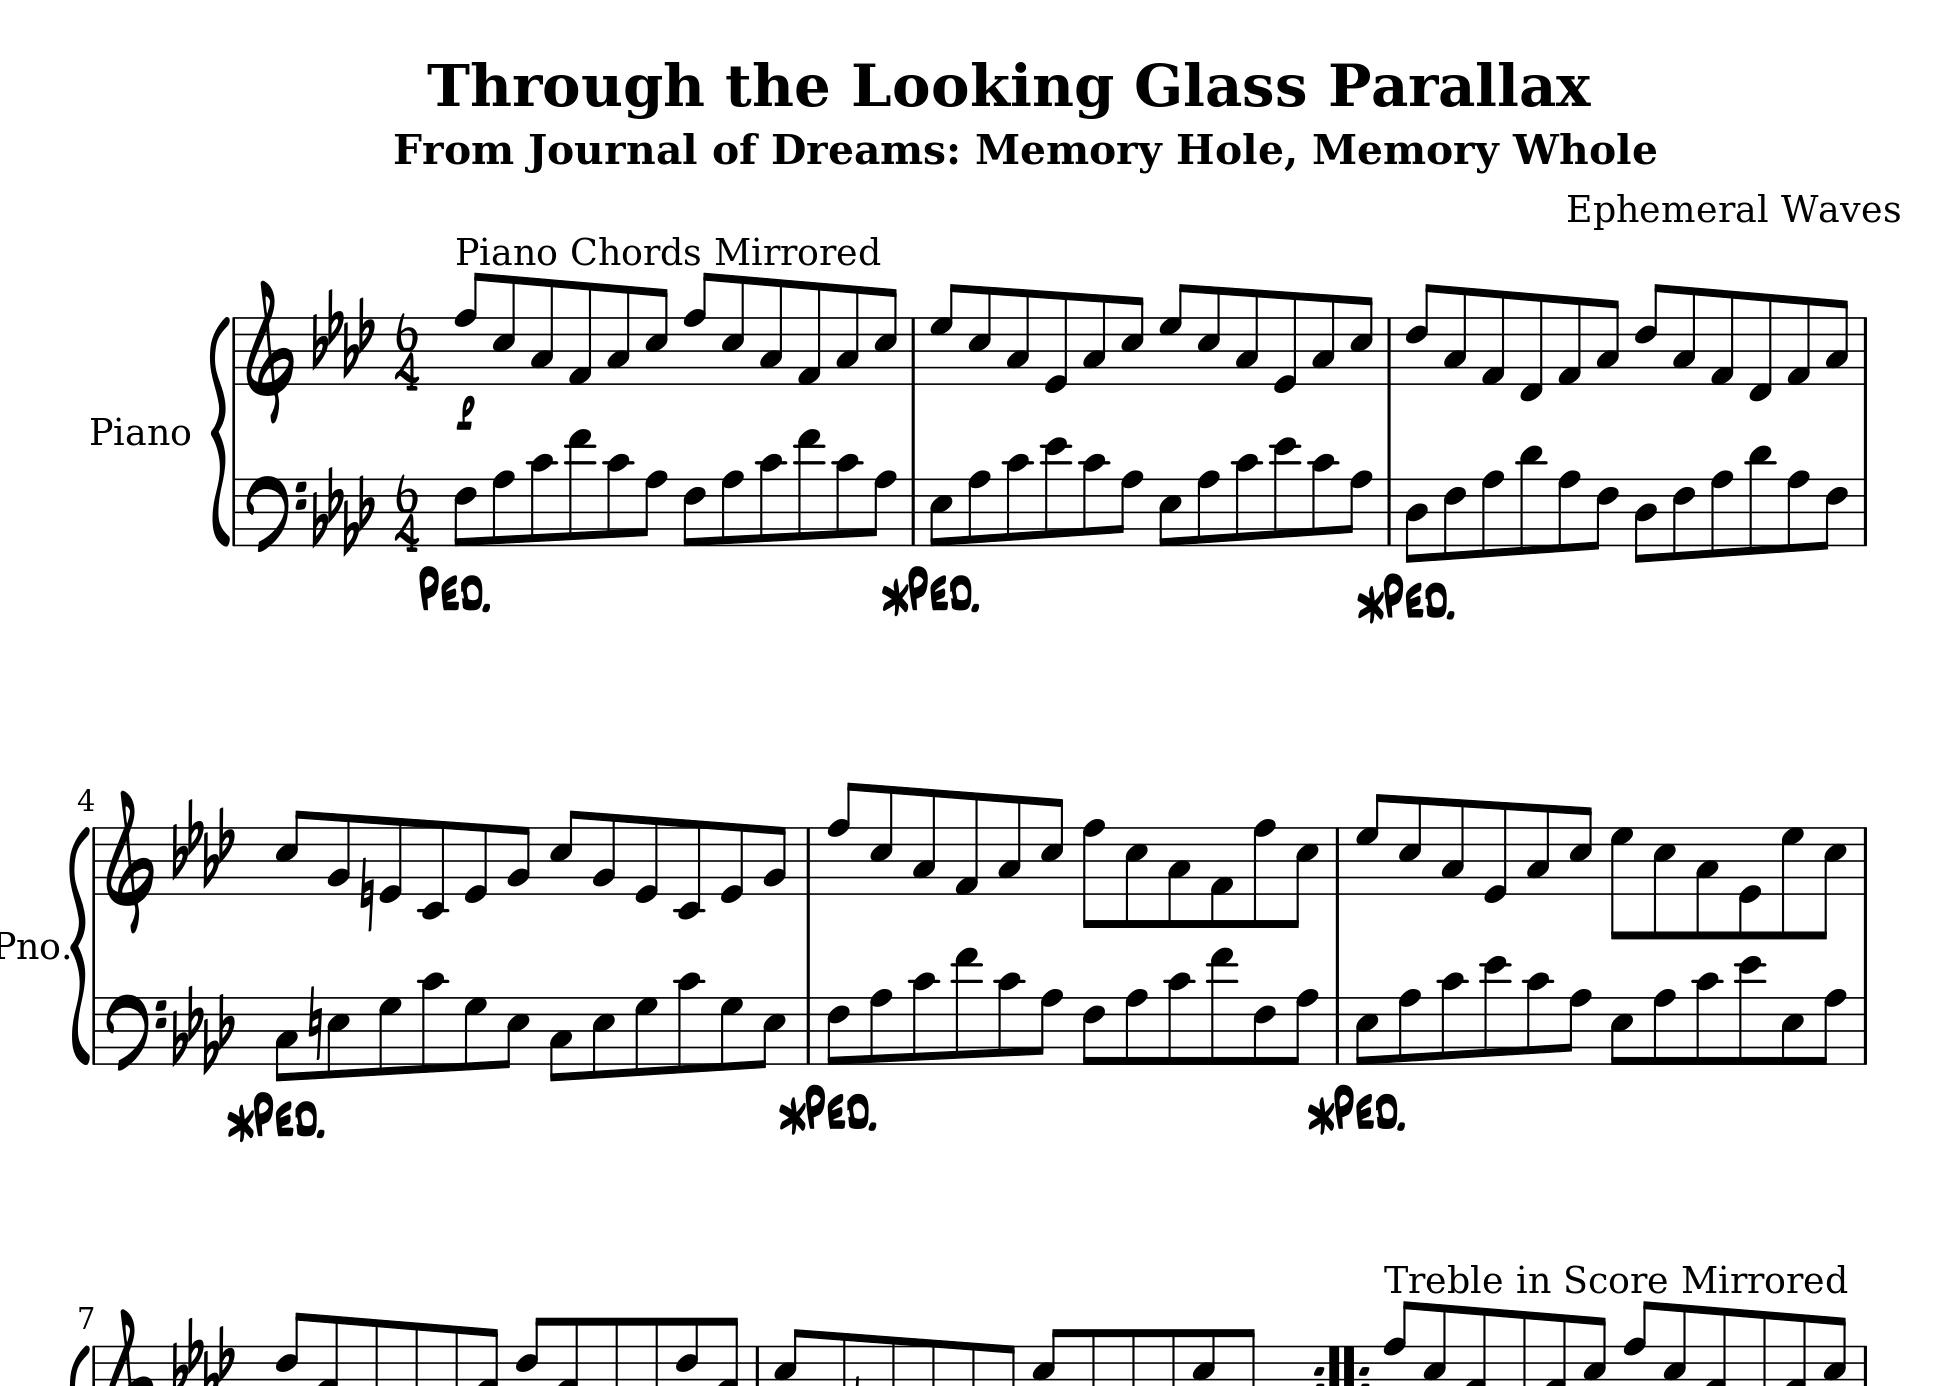4: (391, 349, 424, 391), (391, 510, 424, 550), (76, 784, 96, 814)
6: (393, 310, 420, 351), (394, 472, 420, 511)
7: (76, 1302, 94, 1330)
8_-1: (1518, 291, 1545, 403), (1747, 291, 1774, 403)
8_-2: (417, 817, 448, 921), (673, 817, 703, 922)
8_0: (1042, 289, 1071, 397), (1737, 825, 1762, 940), (1272, 289, 1299, 397), (1482, 799, 1509, 907), (633, 814, 661, 906), (378, 814, 405, 904), (462, 820, 490, 904), (718, 820, 745, 904)
8_1: (565, 277, 594, 387), (952, 789, 981, 897), (796, 277, 822, 388), (1480, 286, 1507, 388), (1209, 825, 1234, 930), (1710, 288, 1735, 388), (1557, 294, 1584, 387), (1785, 294, 1812, 385)
8_10: (673, 970, 703, 1075), (418, 970, 447, 1074), (528, 451, 556, 547), (1080, 451, 1108, 547), (1233, 451, 1261, 547), (1524, 970, 1552, 1066), (1693, 970, 1722, 1066), (1309, 453, 1338, 547), (604, 451, 631, 547), (757, 451, 784, 547), (834, 451, 861, 547), (1005, 451, 1032, 547), (910, 970, 937, 1066), (996, 970, 1023, 1066), (1167, 970, 1194, 1066), (1440, 970, 1467, 1066)
8_11: (1746, 442, 1776, 556), (1518, 442, 1546, 556)
8_12: (1480, 954, 1512, 1066), (1735, 954, 1767, 1066), (1042, 435, 1071, 549), (1272, 436, 1300, 547)
8_13: (1206, 946, 1237, 1066), (952, 946, 982, 1066), (565, 427, 594, 547), (795, 427, 823, 547)
8_2: (589, 811, 616, 897), (325, 811, 351, 895), (505, 823, 531, 895), (762, 823, 787, 895)
8_3: (757, 274, 784, 388), (529, 274, 556, 387), (910, 786, 937, 897), (1695, 823, 1720, 940), (604, 282, 631, 388), (1005, 286, 1033, 387), (835, 282, 862, 387), (1443, 283, 1470, 388), (1671, 283, 1698, 388), (1165, 823, 1192, 928), (996, 793, 1023, 895), (1440, 796, 1467, 898), (1234, 286, 1261, 387), (1081, 291, 1108, 388), (1311, 292, 1338, 385), (1525, 802, 1552, 895), (1596, 297, 1621, 387), (1824, 297, 1849, 385), (273, 994, 298, 1083), (547, 994, 573, 1083)
8_4: (1404, 475, 1429, 565), (1633, 475, 1659, 565)
8_5: (1815, 823, 1848, 940), (1287, 823, 1320, 928), (1650, 823, 1677, 940), (490, 271, 517, 387), (868, 781, 895, 897), (720, 271, 745, 387), (274, 807, 307, 895), (1122, 823, 1149, 930), (547, 808, 580, 895), (1398, 793, 1425, 895), (967, 283, 993, 388), (1197, 283, 1222, 387), (643, 283, 669, 385), (1039, 795, 1065, 895), (873, 286, 898, 385), (754, 994, 787, 1069), (1120, 292, 1146, 385), (499, 994, 531, 1069), (589, 994, 616, 1080), (1569, 802, 1593, 895), (1350, 294, 1374, 385), (325, 994, 349, 1081), (927, 477, 954, 549), (1353, 994, 1380, 1066), (1779, 994, 1806, 1066), (1609, 994, 1635, 1066), (1158, 475, 1182, 549)
8_6: (1633, 282, 1668, 388), (1404, 280, 1437, 387), (1588, 477, 1620, 550), (1818, 477, 1849, 550), (1441, 475, 1467, 562), (1671, 475, 1696, 562), (451, 475, 478, 549), (825, 994, 850, 1066), (1252, 994, 1278, 1066), (1081, 996, 1107, 1066), (682, 477, 706, 547)
8_7: (1158, 282, 1189, 385), (1779, 823, 1806, 940), (1356, 790, 1386, 895), (1608, 823, 1635, 939), (930, 282, 960, 385), (631, 994, 658, 1078), (376, 994, 402, 1077), (462, 994, 487, 1071), (718, 994, 742, 1072)
8_8: (825, 780, 859, 898), (451, 270, 486, 387), (682, 271, 715, 387), (1249, 816, 1278, 928), (1080, 816, 1107, 928), (1285, 987, 1320, 1066), (1815, 987, 1848, 1066), (867, 468, 898, 547), (1032, 987, 1063, 1066), (1561, 987, 1593, 1066), (1479, 468, 1506, 559), (1342, 469, 1374, 547), (637, 468, 667, 547), (1114, 468, 1144, 547), (1708, 466, 1734, 559), (1785, 468, 1812, 553), (966, 468, 993, 547), (1650, 987, 1677, 1066), (1555, 469, 1581, 553), (1123, 985, 1149, 1066), (1396, 985, 1422, 1066), (1195, 468, 1221, 547), (720, 469, 745, 547), (868, 987, 892, 1066), (490, 469, 514, 547)
A_F: (310, 286, 376, 379), (169, 982, 234, 1075), (171, 796, 235, 888), (312, 463, 375, 555)
Brace: (208, 313, 231, 547), (70, 823, 91, 1065)
Fclef: (244, 472, 307, 555), (103, 991, 166, 1074)
Gclef: (244, 277, 295, 424), (103, 787, 154, 934)
Natural: (358, 855, 375, 931), (306, 984, 322, 1060)
Pno: (87, 415, 192, 445), (1, 928, 60, 961)
Single_barline: (904, 477, 922, 544), (1329, 996, 1347, 1062), (799, 997, 817, 1063), (799, 826, 816, 895), (1381, 477, 1398, 544), (1857, 996, 1873, 1063), (1858, 825, 1873, 895), (1858, 316, 1873, 385), (906, 316, 921, 384), (1381, 316, 1396, 384), (1330, 826, 1345, 894), (228, 315, 241, 385), (1858, 478, 1872, 546), (228, 478, 241, 543), (88, 826, 100, 894), (88, 997, 100, 1060)
TimeSig: (393, 474, 421, 555), (393, 313, 421, 393)
p: (454, 394, 477, 433)
